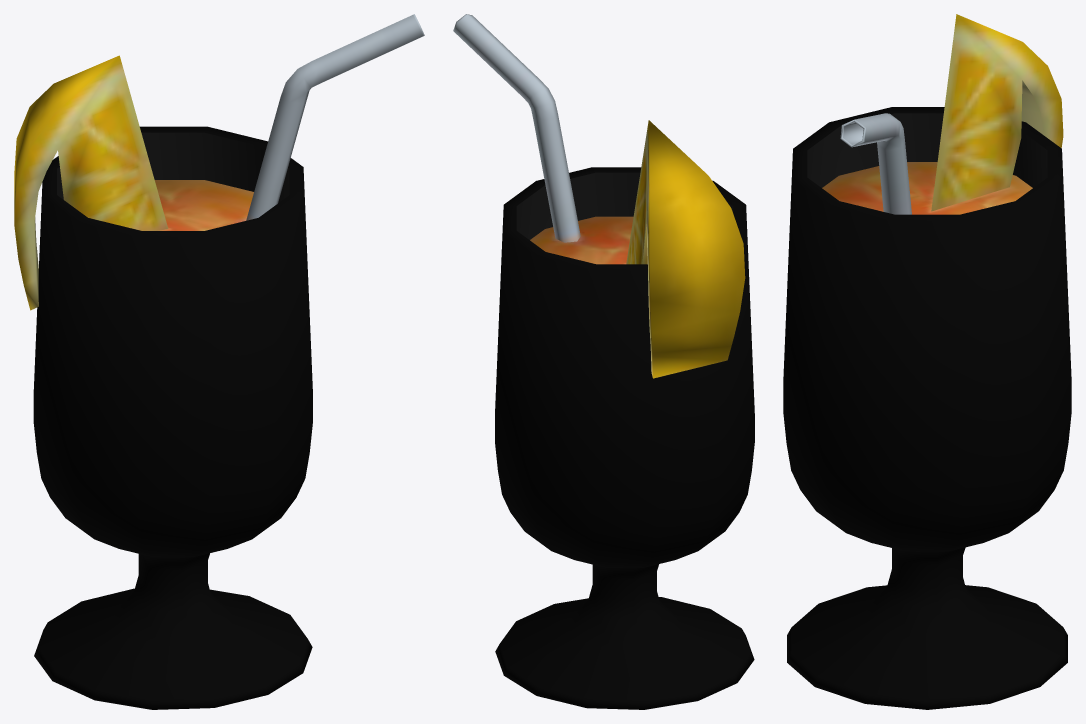
3 renders of one model, left to right at view 1: azimuth 30°, elevation 25°; view 2: azimuth 150°, elevation 25°; view 3: azimuth 270°, elevation 25°, orthographic. The views are drawn at different scales.
Bounding box in the file's own units: 3.7 × 6.04 × 2.49.
3 materials, 3 textured.
